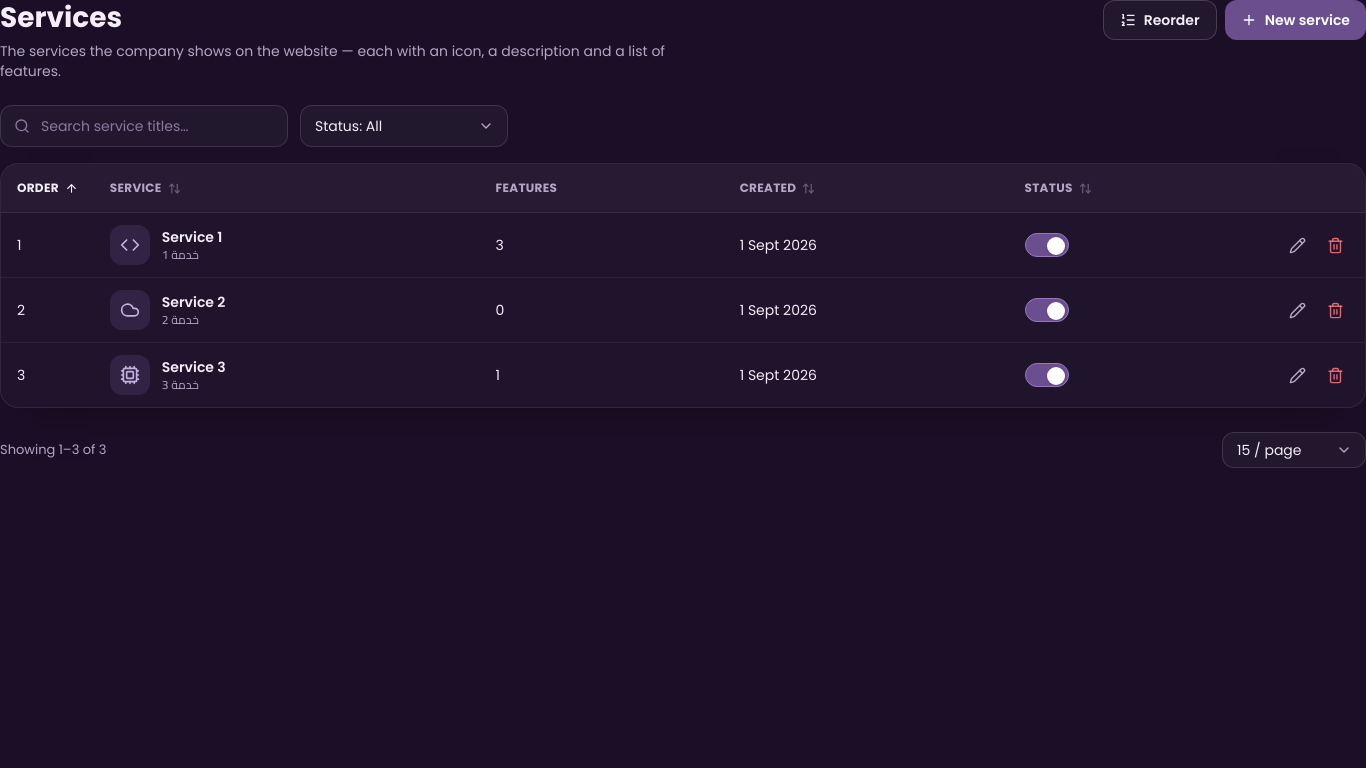
Test: ServiceList › delete › asks first, then deletes and refreshes the list
Expected: the text "Service 2" is shown, [162,292,225,312]
Click the button named "Delete" in the row of "Service 2" at x=1335, y=310, box [1317,292,1353,328]
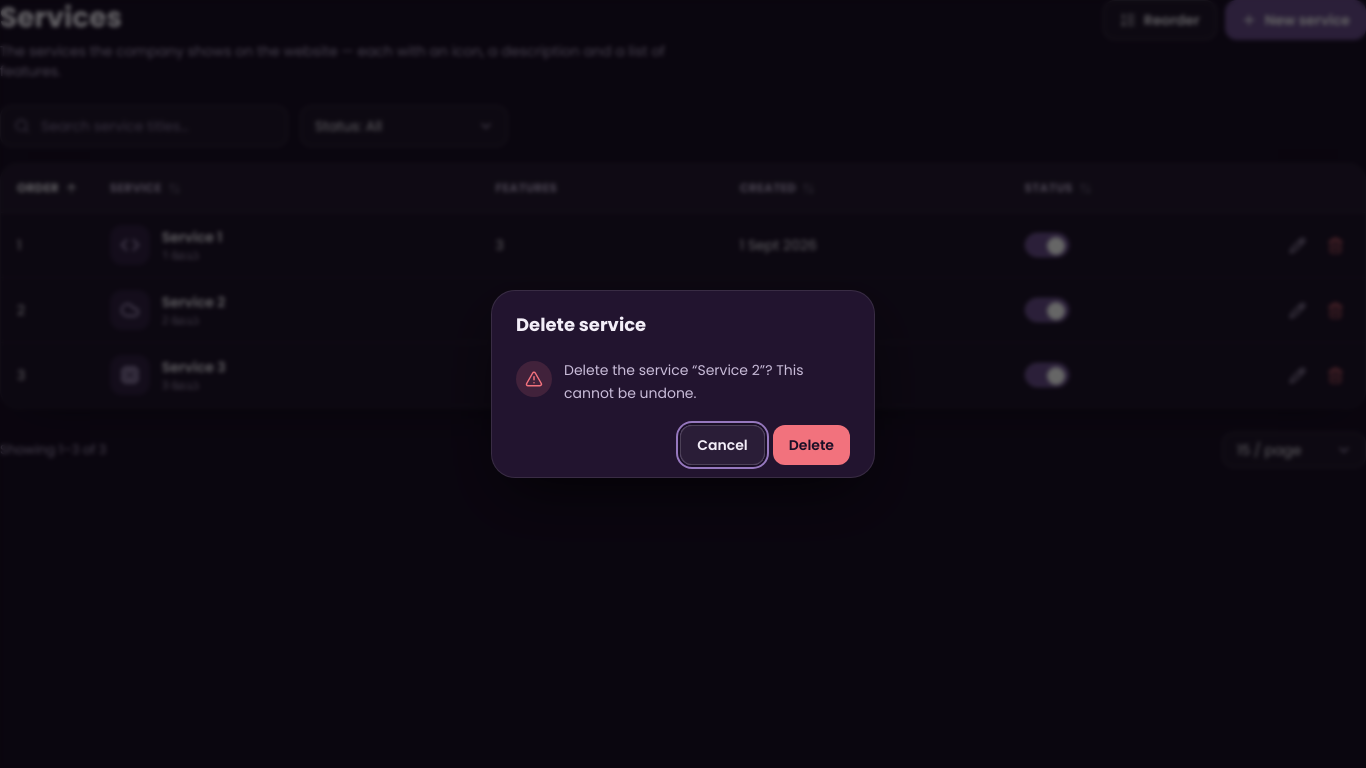
Expected: the dialog "Delete service" shows "Delete the service “Service 2”? This cannot be undone.", [564,360,804,403]
Click the button "Delete" at x=811, y=445, box [773,425,850,465]
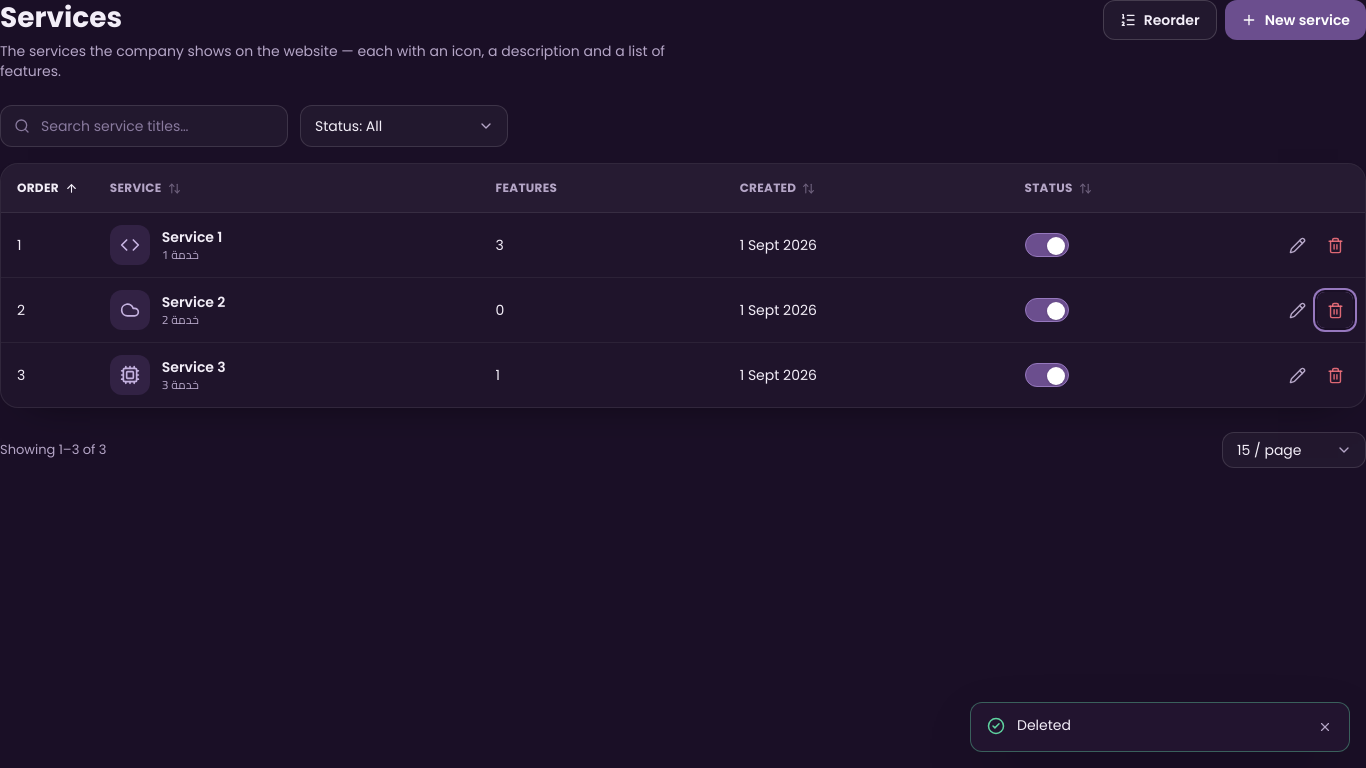
Expected: the text "Deleted" is shown, [1017,715,1071,735]
